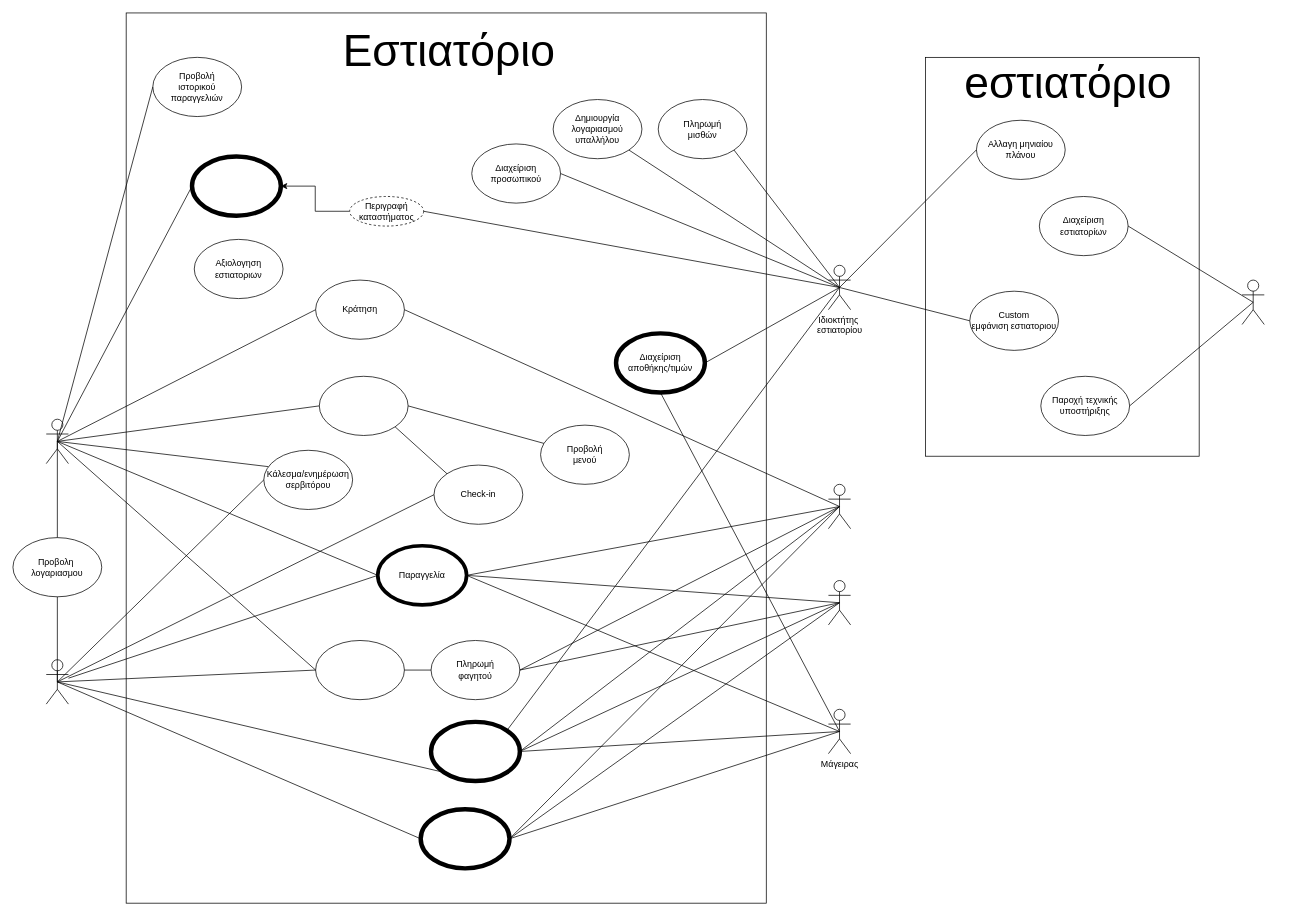
Some shapes in this 1307 by 916 pixel diagram are drawn without their labels. The box of each missing label's shape, as (x1, y1, x2, y2) in pixels:
Check-out: (315, 640, 404, 700)
Team του eστιατοριο: (1241, 279, 1264, 324)
Διανομέας: (828, 580, 851, 625)
Επιλογή καταστήματος: (189, 154, 283, 218)
Πελάτης εστιατορίου: (46, 418, 68, 464)
Προβολή εβδομαδιαίου προγράμματος: (428, 719, 522, 783)
Προβολή εκκρεμών Tasks: (418, 807, 511, 870)
Σερβιτόρος: (46, 659, 68, 704)
Σκανάρισμα QR code: (319, 376, 408, 435)
Ταμείας: (828, 484, 851, 529)
